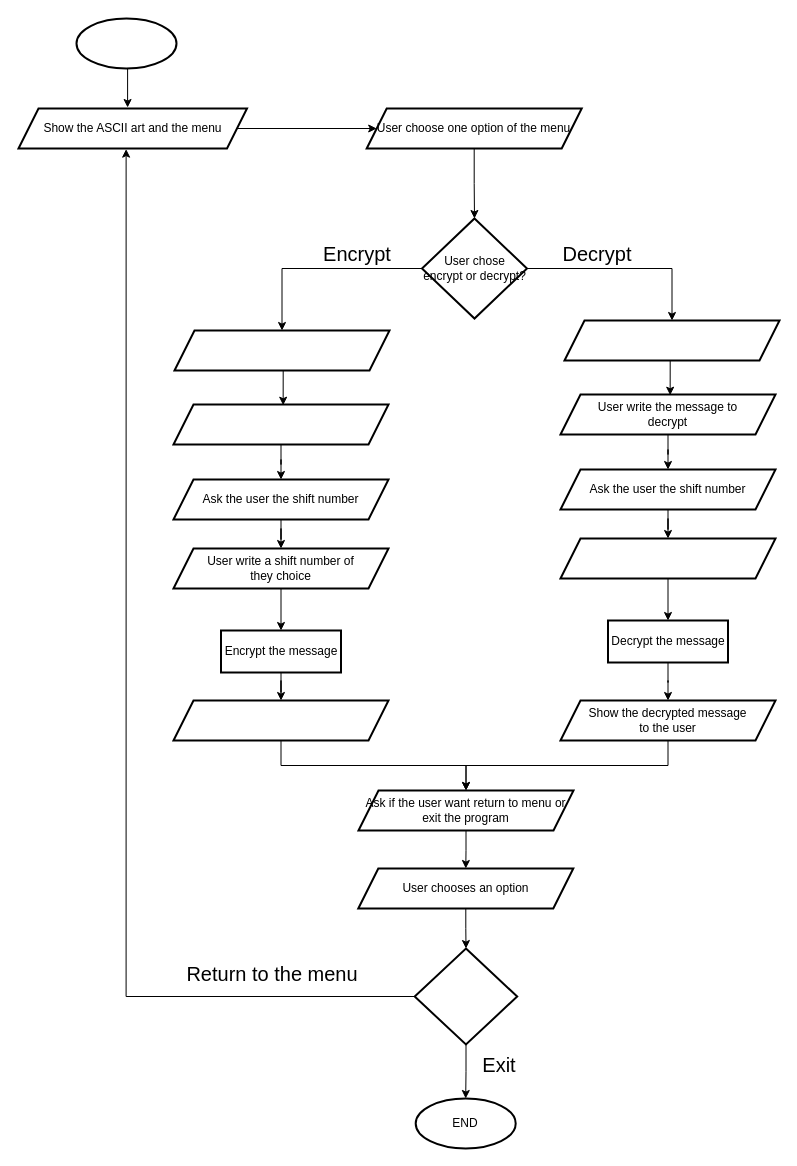
Image size: 797x1166. Some labels were removed from this diagram. The centre of each missing label's shape, as x and y in pixels:
"Ask what message user wants to decrypt" belongs at [671,340].
"Ask what message user wants to encrypt" belongs at [281,350].
"Return to menu or exit?" belongs at [465,996].
"Show the encrypted message to the user" belongs at [280,720].
"START" belongs at [126,43].
"User write the chosen shift number when the message was encrypted" belongs at [667,558].
"User write the message to encrypt" belongs at [280,424].
